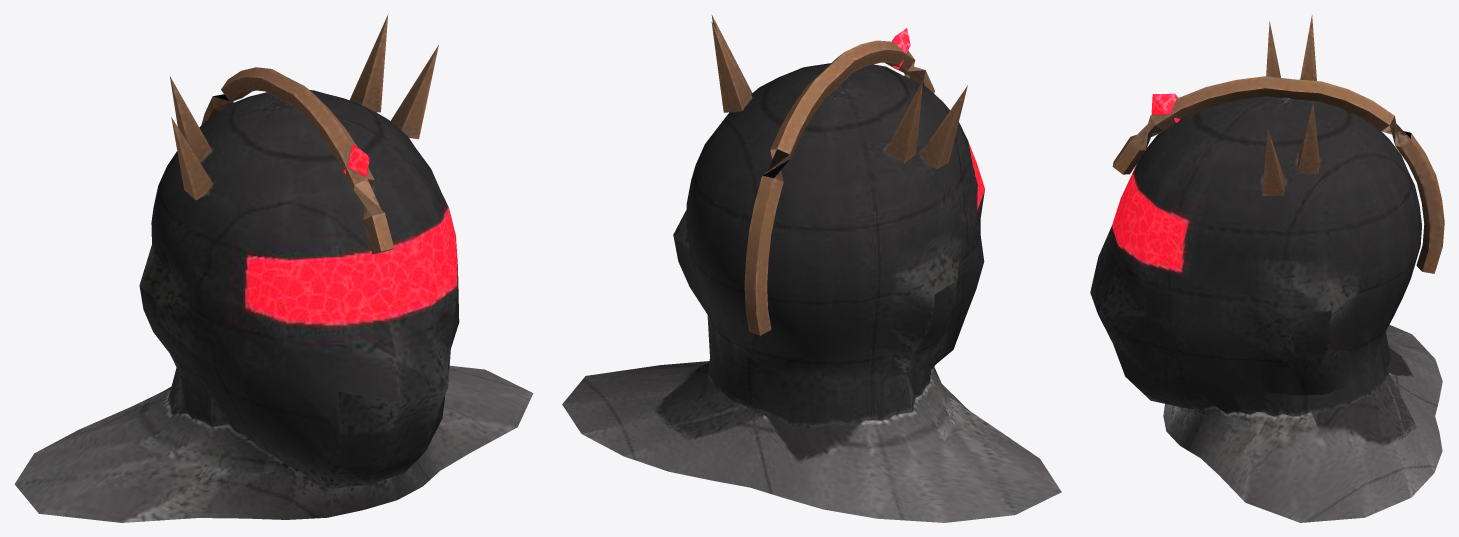
The model's file is Capuz_do_Guerreiro_nivel75.glb.
3 renders of one model, left to right at view 1: azimuth 30°, elevation 25°; view 2: azimuth 150°, elevation 25°; view 3: azimuth 270°, elevation 25°, orthographic. The views are drawn at different scales.
Visible parts, largest first — view 1: capuz_do_guerreiro_nivel75; view 2: capuz_do_guerreiro_nivel75; view 3: capuz_do_guerreiro_nivel75.
Boxes of the visible parts, left/top/right/bottom form: capuz_do_guerreiro_nivel75: left=14, top=14, right=533, bottom=522; capuz_do_guerreiro_nivel75: left=562, top=14, right=1061, bottom=522; capuz_do_guerreiro_nivel75: left=1090, top=15, right=1444, bottom=522.
Bounding box in the file's own units: 0.4628 × 0.3645 × 0.3241.
1 material, 1 textured.
